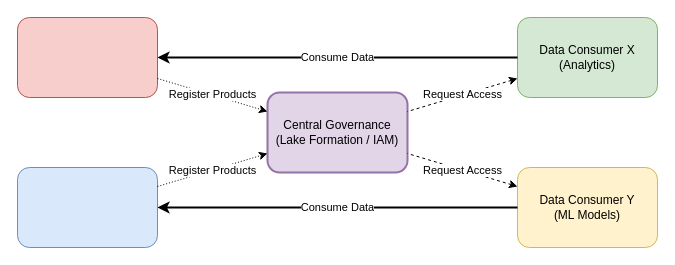
Image size: 675x265. Some labels were removed from this diagram. Each missing label, with the centre of its shape:
"Data Domain A (Sales)" goes at (87,57).
"Data Domain B (Marketing)" goes at (87,207).
